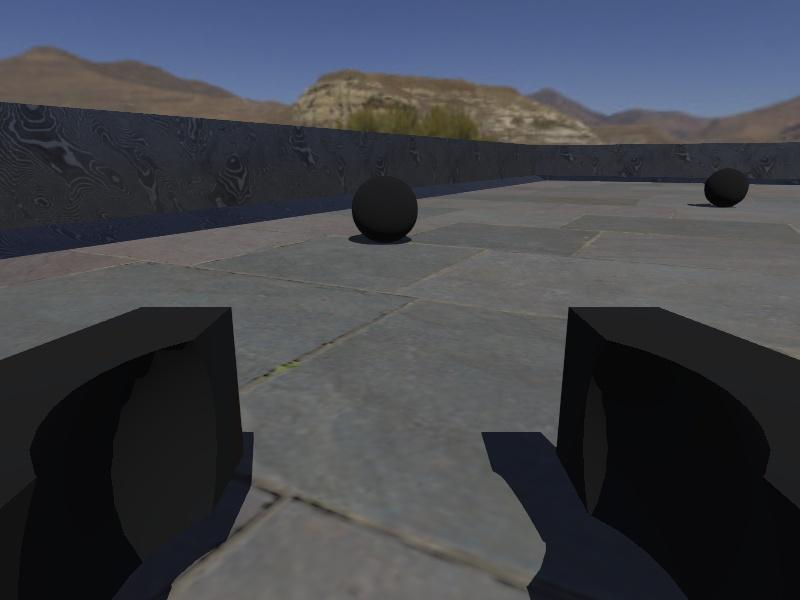black ball: (351, 174, 419, 243), (704, 167, 749, 209)
